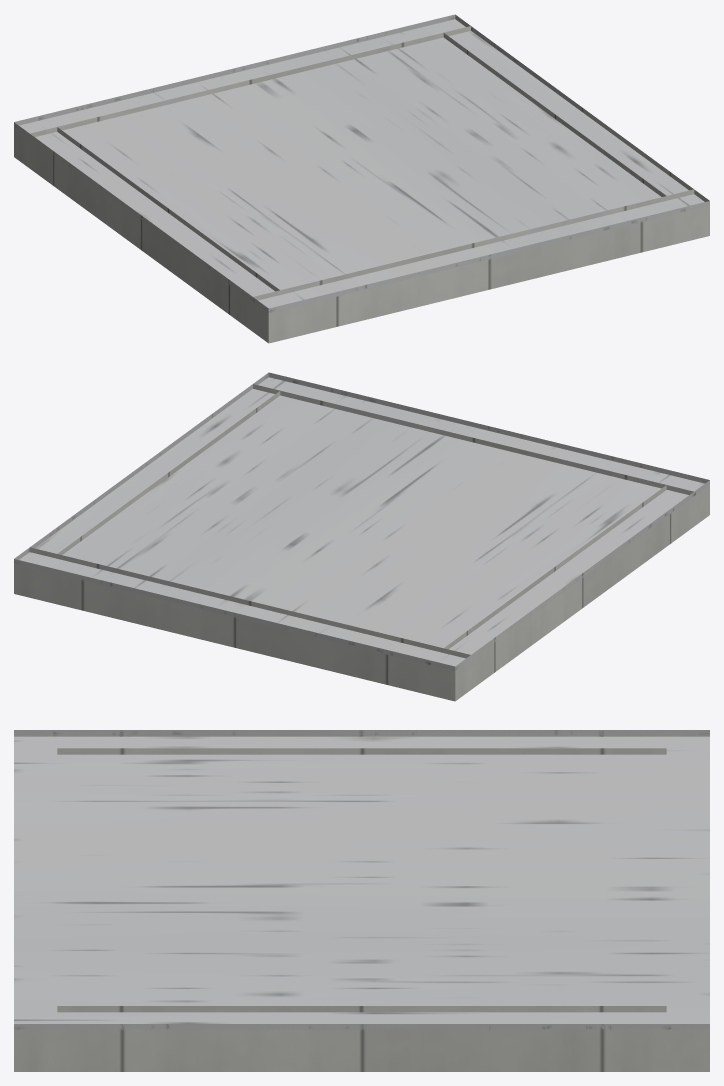
File: SM_LFD_CeilingCoffer_Rear.fbx
3 renders of one model, top to bottom at view 1: azimuth 30°, elevation 25°; view 2: azimuth 150°, elevation 25°; view 3: azimuth 270°, elevation 25°, orthographic. The views are drawn at different scales.
Parts seen in each view (by area): view 1: SM_LFD_CeilingCoffer_Rear; view 2: SM_LFD_CeilingCoffer_Rear; view 3: SM_LFD_CeilingCoffer_Rear.
Part boxes in pixels (x1,y1,x2,y2): SM_LFD_CeilingCoffer_Rear: [14, 14, 709, 343]; SM_LFD_CeilingCoffer_Rear: [14, 372, 709, 701]; SM_LFD_CeilingCoffer_Rear: [14, 730, 709, 1071].
Size of the model in its own units: 2.9 by 0.22 by 2.9.
